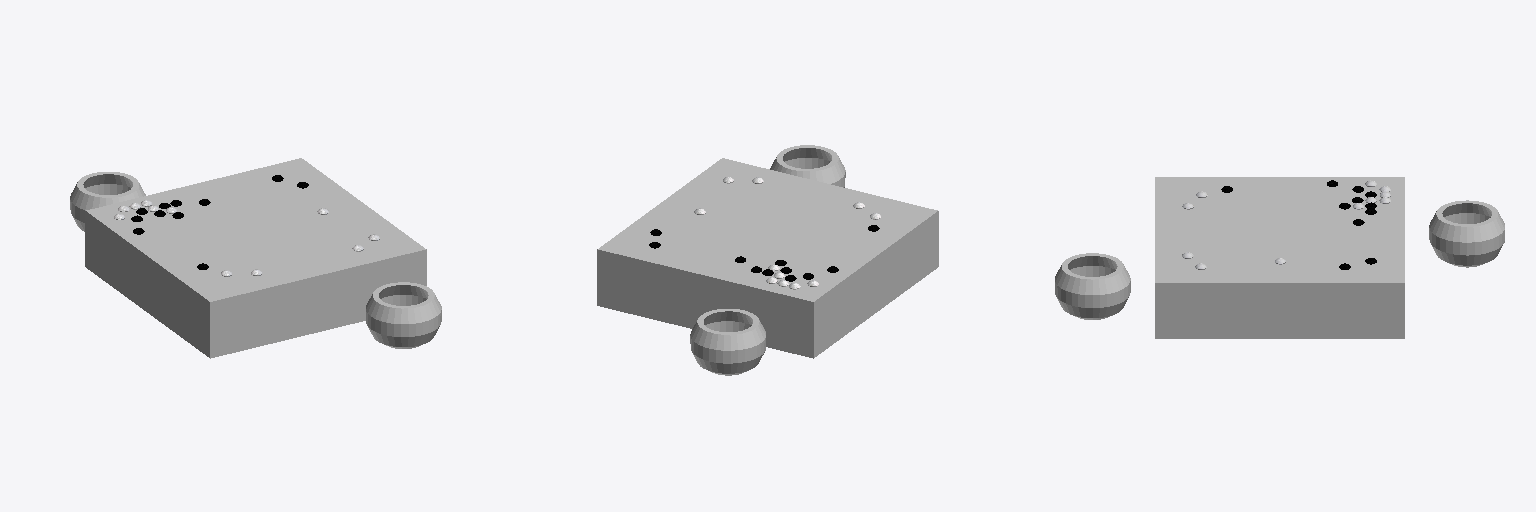
3 views of the same model, side by side, from view 1: azimuth 30°, elevation 25°; view 2: azimuth 150°, elevation 25°; view 3: azimuth 270°, elevation 25° (orthographic).
Parts seen in each view (by area): view 1: Cube, Cylinder, Cylinder.001; view 2: Cube, Cylinder.001, Cylinder; view 3: Cube, Cylinder, Cylinder.001.
Boxes of the visible parts, x1=… form: Cube: x1=85, y1=158, x2=426, y2=358; Cylinder: x1=366, y1=282, x2=441, y2=348; Cylinder.001: x1=70, y1=172, x2=145, y2=231; Cube: x1=597, y1=158, x2=938, y2=358; Cylinder.001: x1=690, y1=309, x2=765, y2=375; Cylinder: x1=770, y1=145, x2=845, y2=187; Cube: x1=1155, y1=177, x2=1404, y2=338; Cylinder: x1=1055, y1=253, x2=1130, y2=319; Cylinder.001: x1=1429, y1=200, x2=1504, y2=267.
Size of the model in its own units: 8 by 2.16 by 14.44.
4 materials, 2 textured.